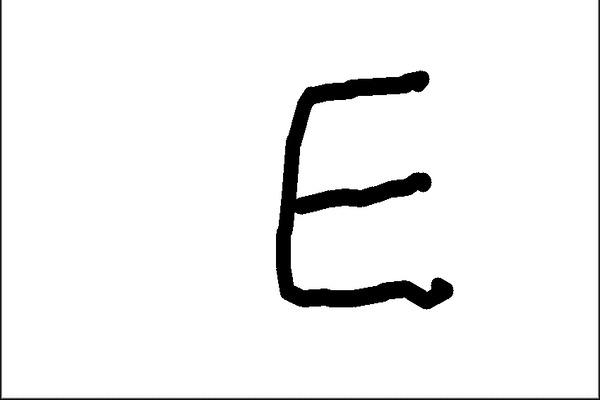E: (266, 65, 461, 311)
